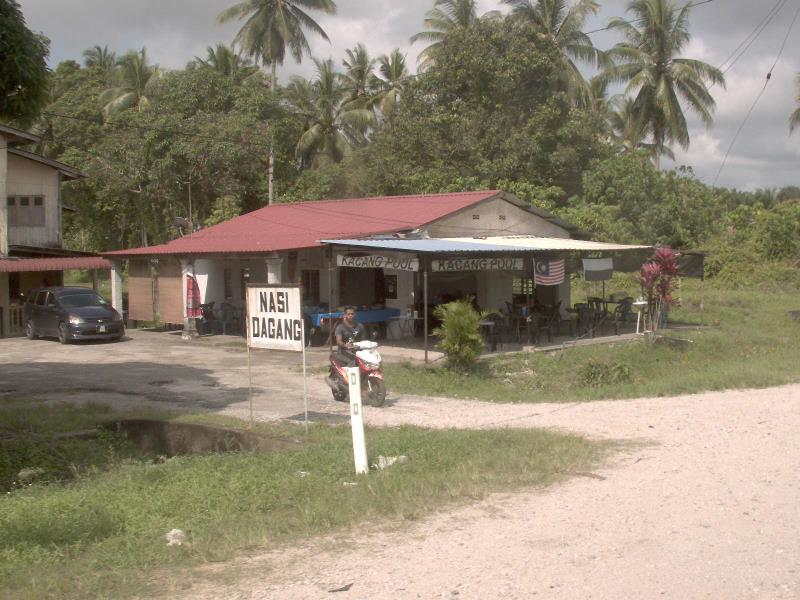ads_sign: (239, 280, 309, 359)
